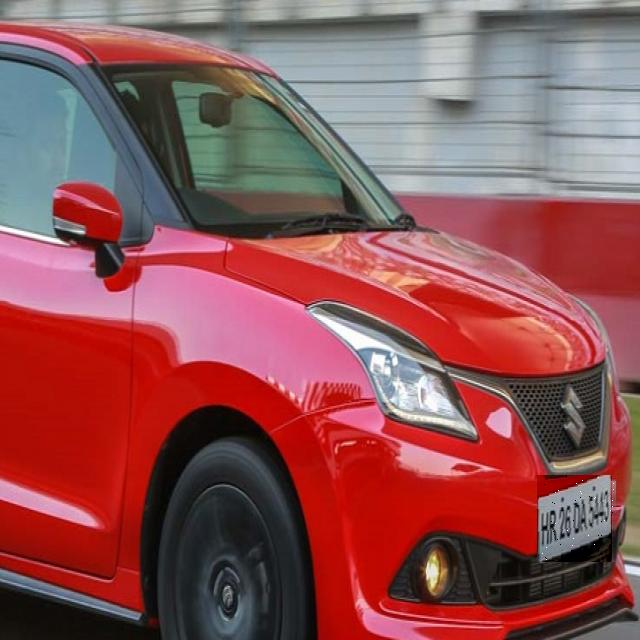Plate: (539, 476, 617, 563)
